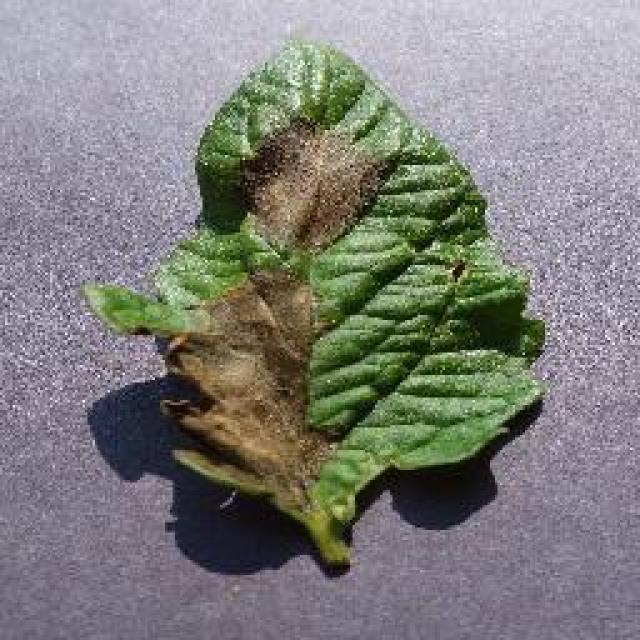Tomato Late Blight: (172, 59, 380, 594)
